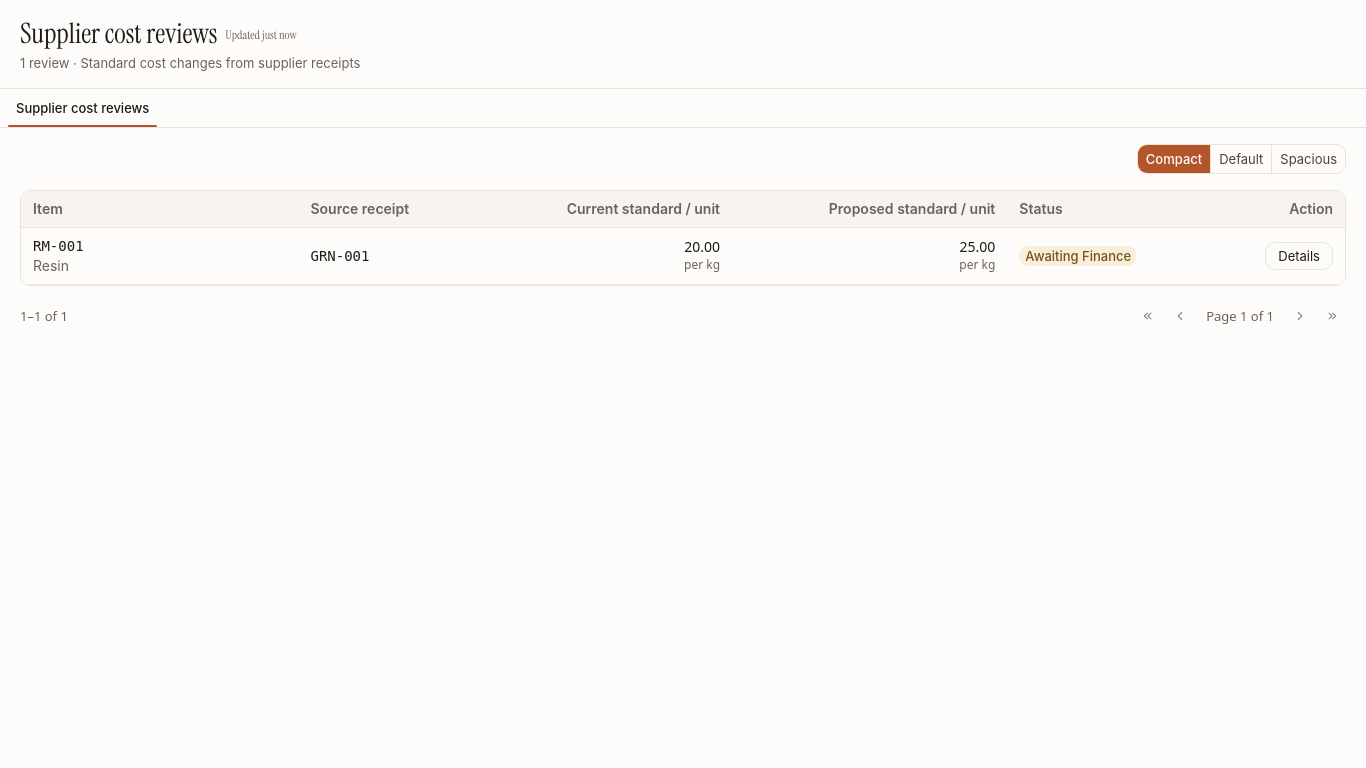
Test: keeps supplier cost details readable without giving review-only staff approval controls
Step 1. Click the button "Details" → click(1299, 256), box [1265,242,1333,270]
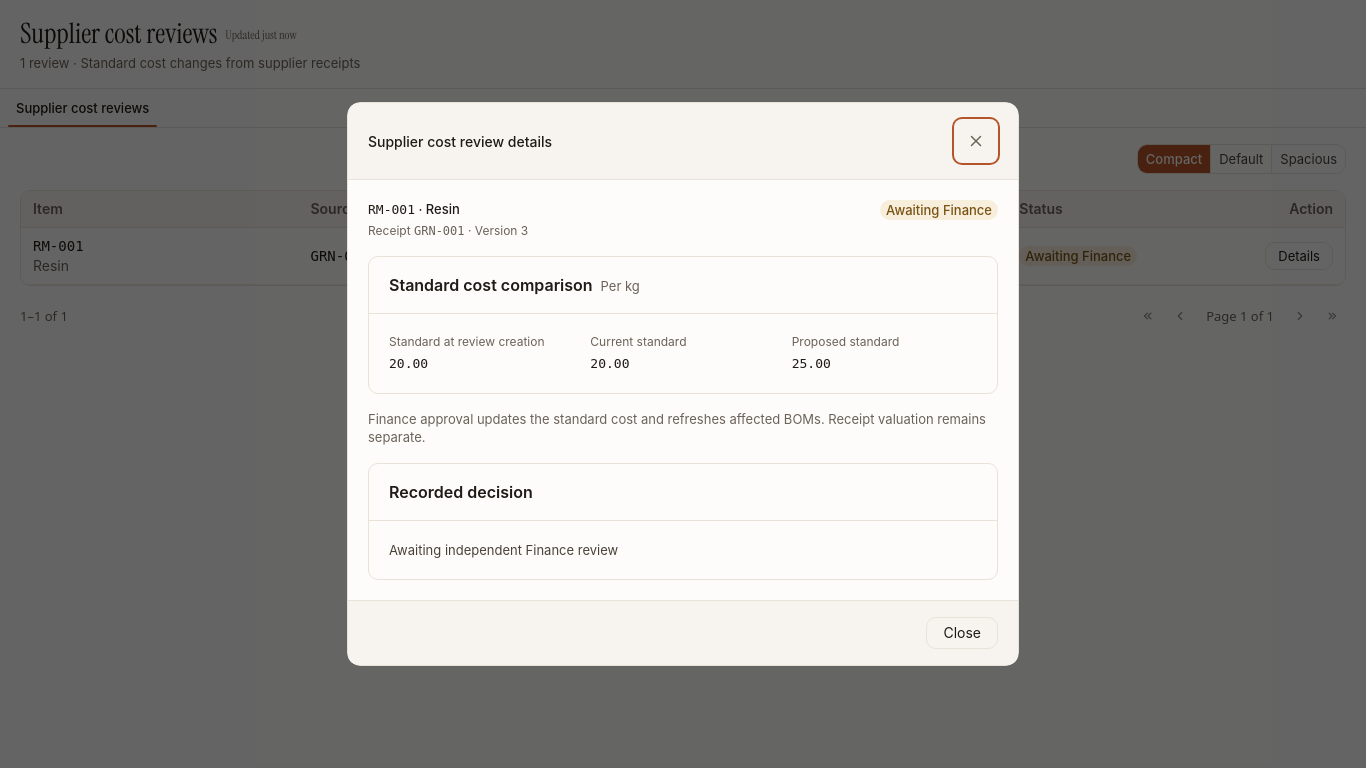
Check: the text "Awaiting independent Finance review" is shown, box [389,542,618,558]
